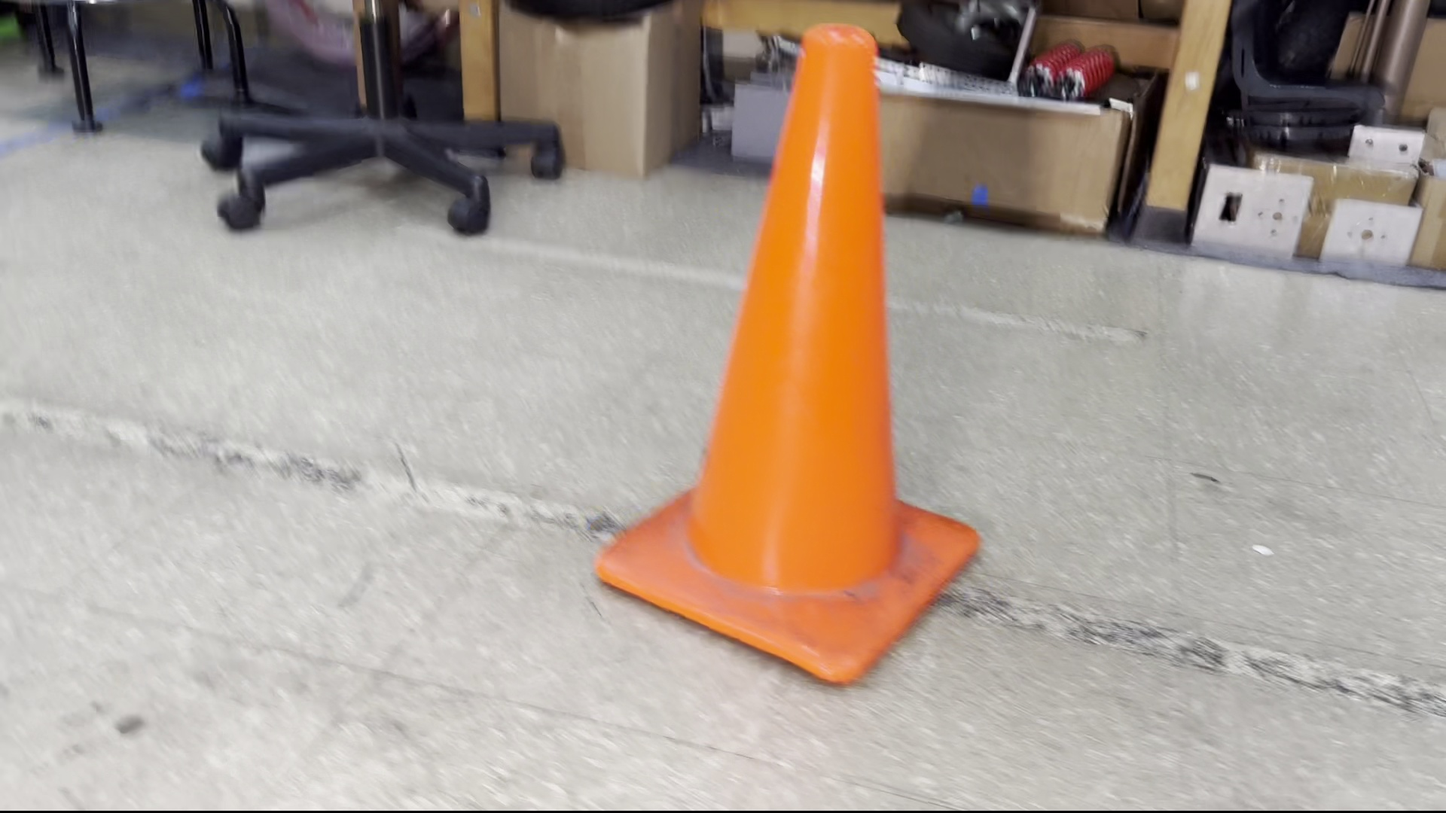traffic_cone: (594, 22, 982, 687)
